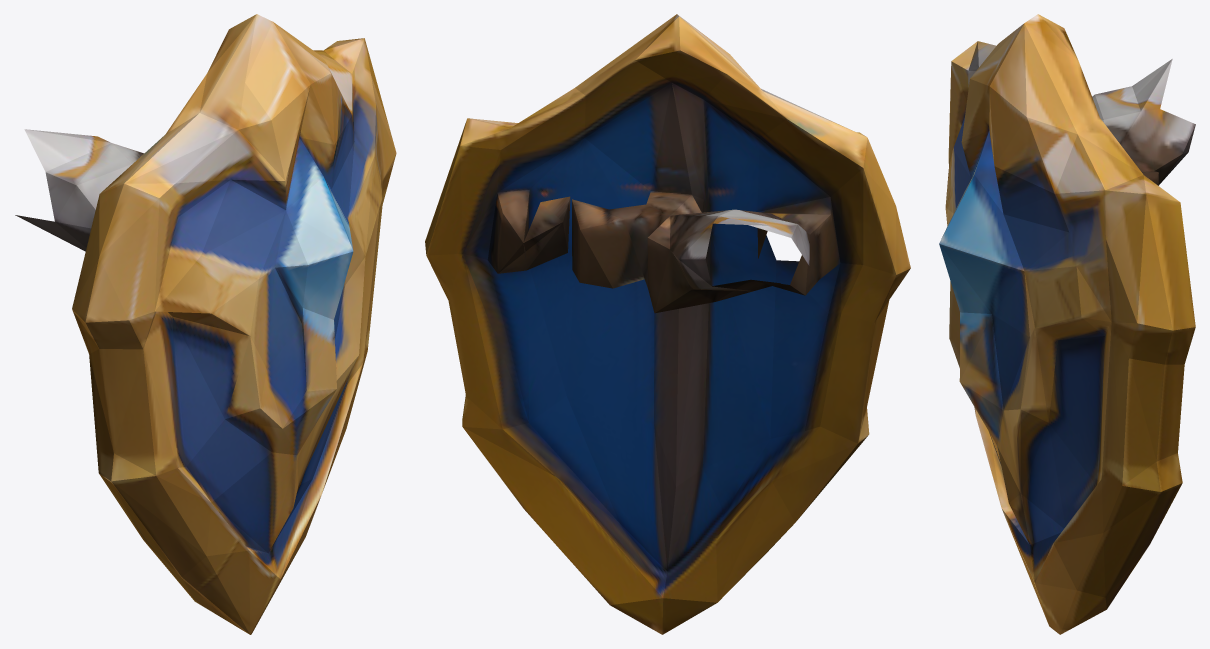
File: duy_anh_shield.glb
3 views of the same model, side by side, from view 1: azimuth 30°, elevation 25°; view 2: azimuth 150°, elevation 25°; view 3: azimuth 270°, elevation 25° (orthographic). The views are drawn at different scales.
Visible parts, largest first — view 1: shield; view 2: shield; view 3: shield.
Part boxes in pixels (x1,y1,x2,y2): shield: (15,14,396,634); shield: (425,14,910,634); shield: (939,14,1195,634).
Size of the model in its own units: 0.2915 by 0.4411 by 0.1661.
Materials: 1 (1 with a texture image).
